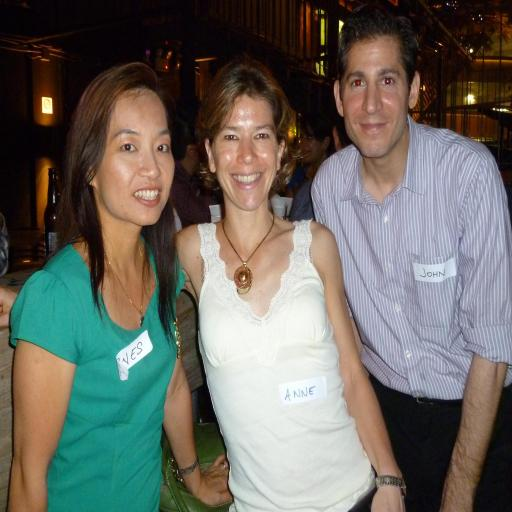person: (177, 57, 401, 511), (312, 6, 511, 511), (9, 63, 229, 511), (171, 109, 216, 227), (290, 112, 334, 221), (285, 111, 334, 197), (0, 214, 9, 276)
